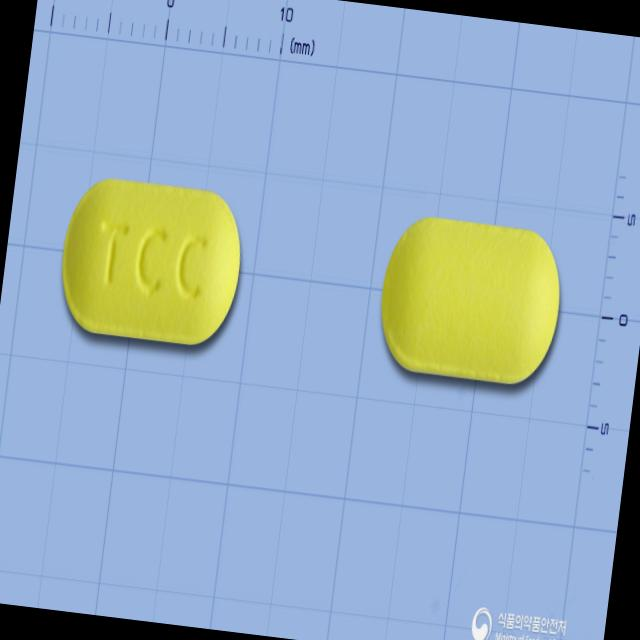Clycin Tab-500mg: (54, 172, 248, 350)
